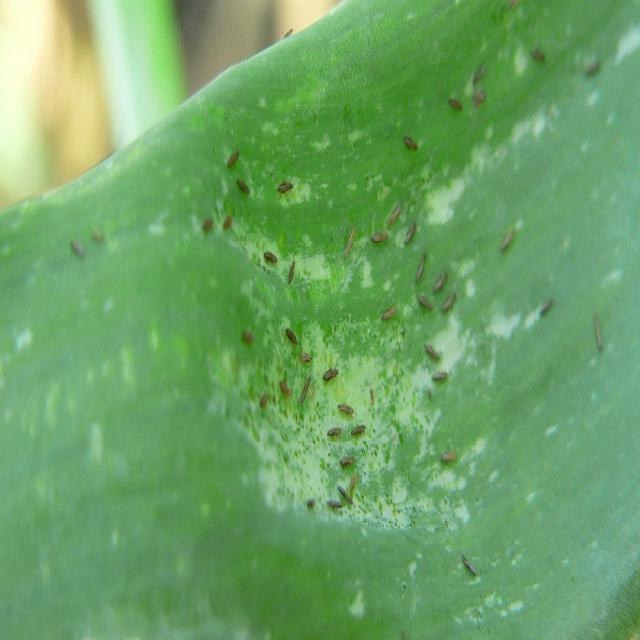Thrip-Adult-: (499, 210, 518, 263), (459, 547, 478, 586), (438, 439, 459, 471), (342, 222, 358, 262), (422, 336, 443, 366), (536, 292, 554, 326), (433, 265, 450, 298), (414, 285, 434, 313), (350, 415, 368, 446), (386, 199, 405, 228), (336, 479, 356, 506), (274, 176, 297, 199), (428, 365, 452, 387), (446, 92, 466, 118), (402, 220, 420, 248), (414, 249, 428, 285), (225, 142, 242, 170), (439, 291, 458, 316), (320, 365, 342, 386), (326, 492, 344, 517), (336, 398, 356, 420), (324, 417, 344, 439), (300, 371, 314, 402), (283, 321, 301, 345), (402, 130, 419, 155), (337, 450, 359, 469), (370, 226, 390, 246), (378, 304, 397, 325), (261, 249, 280, 267), (236, 175, 251, 197), (288, 253, 298, 286), (277, 377, 292, 399), (298, 347, 314, 367)
